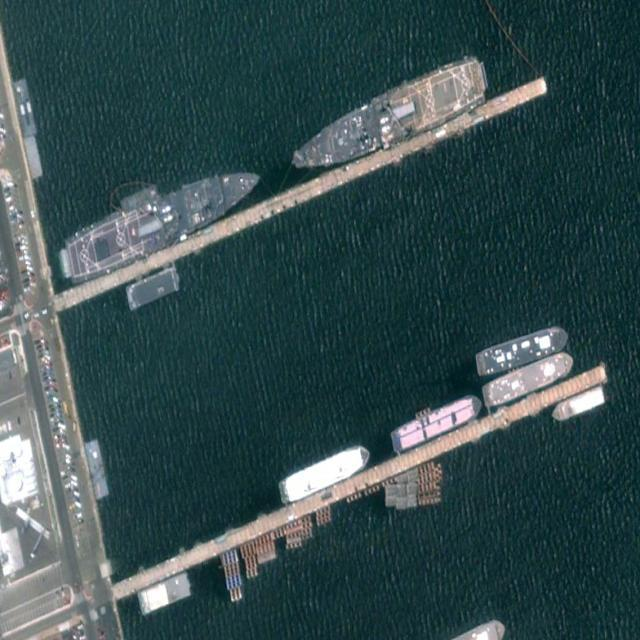Landing: (287, 45, 489, 190), (64, 155, 266, 286)
Other Ship: (275, 438, 372, 510), (389, 389, 485, 457), (480, 348, 576, 412), (474, 323, 571, 378)
